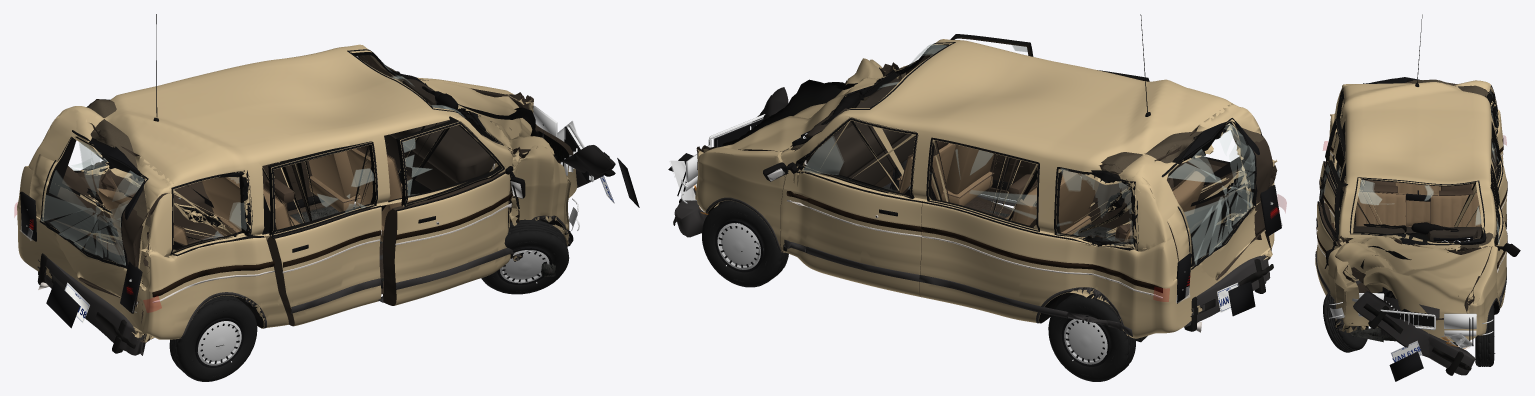
The model's file is minivan86_front_corner_R_d2_lod1.glb.
3 views of the same model, side by side, from view 1: azimuth 30°, elevation 25°; view 2: azimuth 150°, elevation 25°; view 3: azimuth 270°, elevation 25° (orthographic). The views are drawn at different scales.
Parts seen in each view (by area): view 1: Body, Interior, Door_FR, Door_SR, Glass_Liftgate, Liftgate, Wheel_RR_mesh, Ends, Wheel_FR_mesh, Hood, Trim_FR, Trim (+8 smaller); view 2: Body, Door_FL, Interior, Trim, Glass_Liftgate, Liftgate, Wheel_RL_mesh, Wheel_FL_mesh, Hood, Ends, Glass, Trim_FL (+5 smaller); view 3: Body, Hood, Interior, Bumper_F, Ends, Glass, Door_FR, Trim, Wheel_FR_mesh, Door_FL, Wheel_FL_mesh, Door_SR (+6 smaller).
Part boxes in pixels (x1,y1,x2,y2): Body: [17, 44, 577, 342]; Interior: [96, 79, 495, 245]; Door_FR: [382, 116, 511, 305]; Door_SR: [267, 141, 381, 326]; Glass_Liftgate: [39, 130, 148, 268]; Liftgate: [29, 107, 174, 307]; Wheel_RR_mesh: [169, 295, 257, 381]; Ends: [20, 105, 639, 328]; Wheel_FR_mesh: [481, 219, 569, 294]; Hood: [420, 80, 554, 155]; Trim_FR: [378, 122, 525, 302]; Trim: [152, 14, 572, 339]; Body: [695, 39, 1277, 338]; Door_FL: [780, 117, 922, 297]; Interior: [801, 78, 1205, 242]; Trim: [705, 14, 1162, 337]; Glass_Liftgate: [1161, 118, 1259, 269]; Liftgate: [1130, 103, 1272, 280]; Wheel_RL_mesh: [1048, 293, 1135, 381]; Wheel_FL_mesh: [702, 200, 788, 287]; Hood: [720, 58, 889, 151]; Ends: [668, 114, 1282, 316]; Glass: [792, 42, 1138, 247]; Trim_FL: [763, 118, 922, 281]; Body: [1328, 79, 1507, 341]; Hood: [1335, 235, 1491, 318]; Interior: [1353, 179, 1481, 242]; Bumper_F: [1353, 291, 1475, 375]; Ends: [1329, 293, 1493, 381]; Glass: [1334, 90, 1500, 245]; Door_FR: [1315, 160, 1347, 295]; Trim: [1329, 14, 1507, 335]; Wheel_FR_mesh: [1323, 291, 1368, 352]; Door_FL: [1490, 163, 1507, 308]; Wheel_FL_mesh: [1475, 305, 1495, 366]; Door_SR: [1319, 118, 1345, 223].
Bounding box in the file's own units: 4.57 × 2.5 × 2.01.
34 materials, 5 textured.
